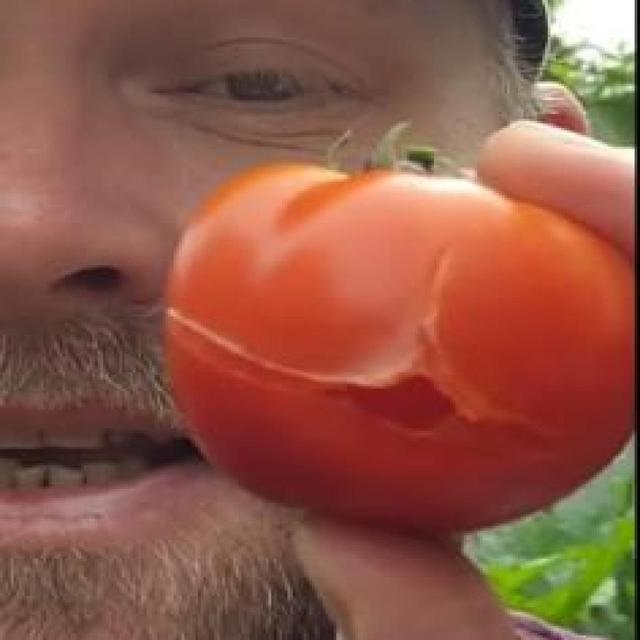Cracking Fruit: (111, 133, 419, 332)
